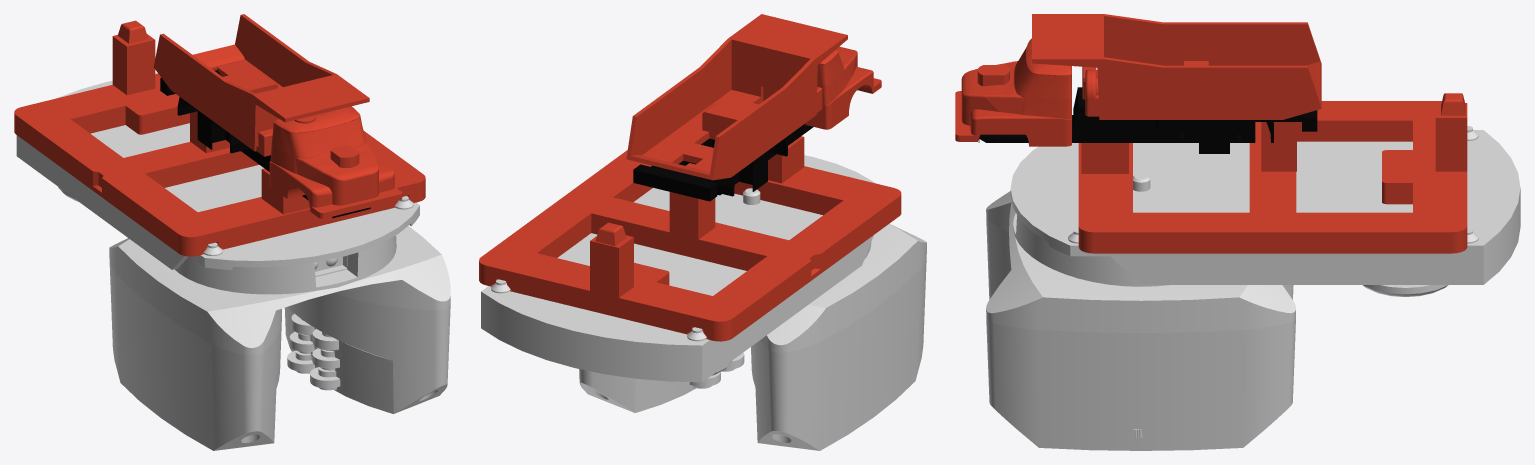
The model's file is anim_vozik.fbx.
3 renders of one model, left to right at view 1: azimuth 30°, elevation 25°; view 2: azimuth 150°, elevation 25°; view 3: azimuth 270°, elevation 25°, orthographic. The views are drawn at different scales.
Visible parts, largest first — view 1: Vozik, Body__01, Dumper__01, Cabin__01, Body__02; view 2: Vozik, Body__01, Dumper__01, Body__02, Cabin__01; view 3: Vozik, Body__01, Dumper__01, Cabin__01, Body__02.
Part boxes in pixels (x1=…): Vozik: x1=16, y1=72, x2=450, y2=450; Body__01: x1=14, y1=20, x2=425, y2=256; Dumper__01: x1=153, y1=14, x2=369, y2=156; Cabin__01: x1=269, y1=106, x2=402, y2=218; Body__02: x1=160, y1=70, x2=370, y2=218; Vozik: x1=481, y1=155, x2=926, y2=450; Body__01: x1=479, y1=136, x2=901, y2=341; Dumper__01: x1=626, y1=14, x2=847, y2=180; Body__02: x1=633, y1=123, x2=813, y2=201; Cabin__01: x1=805, y1=46, x2=881, y2=129; Vozik: x1=986, y1=126, x2=1520, y2=450; Body__01: x1=1078, y1=93, x2=1467, y2=253; Dumper__01: x1=1032, y1=14, x2=1321, y2=119; Cabin__01: x1=955, y1=38, x2=1071, y2=146; Body__02: x1=978, y1=87, x2=1317, y2=153.
Size of the model in its own units: 20.01 by 24.8 by 36.34.
